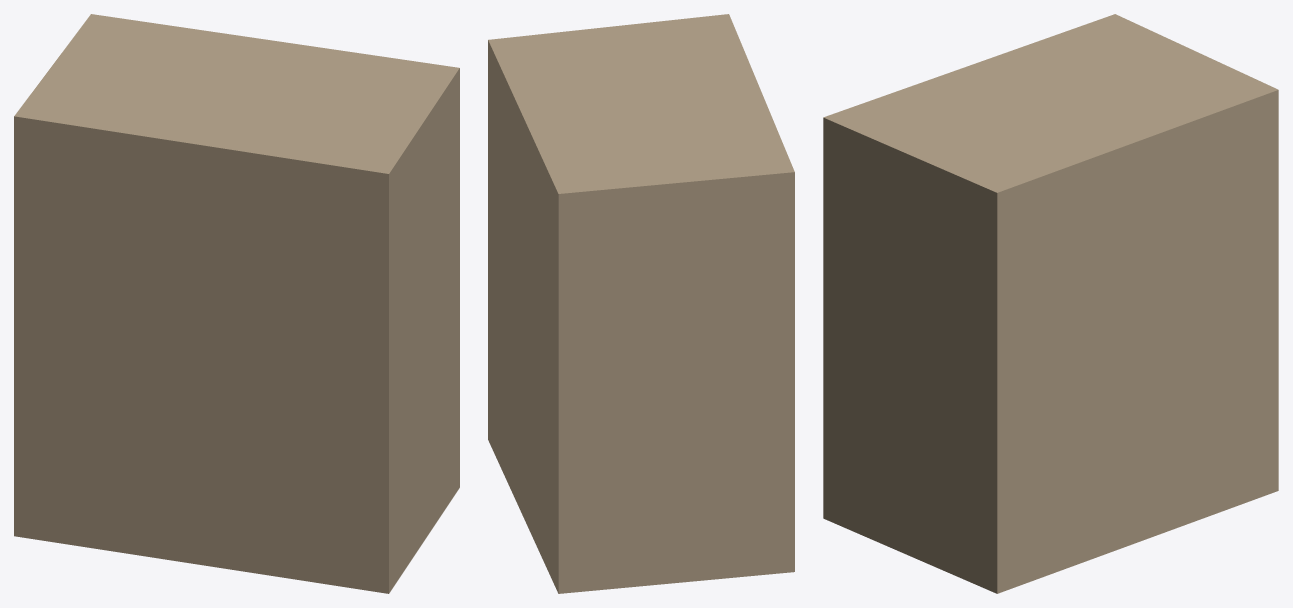
Rendered from bld_99588959.dae.
The picture shows the model from 3 angles, left to right: view 1: azimuth 30°, elevation 25°; view 2: azimuth 150°, elevation 25°; view 3: azimuth 270°, elevation 25°; orthographic projection. The views are drawn at different scales.
Parts seen in each view (by area): view 1: bld_99588959; view 2: bld_99588959; view 3: bld_99588959.
Part boxes in pixels (box(x1,y1,x2,y2)): bld_99588959: box(14, 14, 459, 593); bld_99588959: box(488, 14, 794, 593); bld_99588959: box(823, 14, 1278, 593).
Bounding box in the file's own units: 7.65 × 8.24 × 8.
